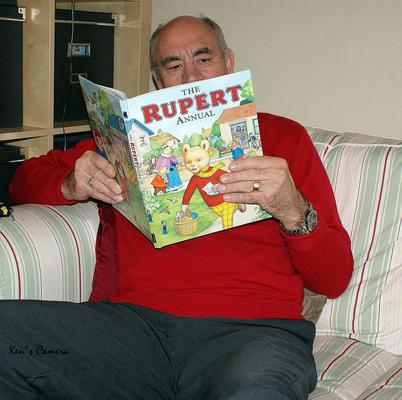person: (2, 16, 354, 400)
